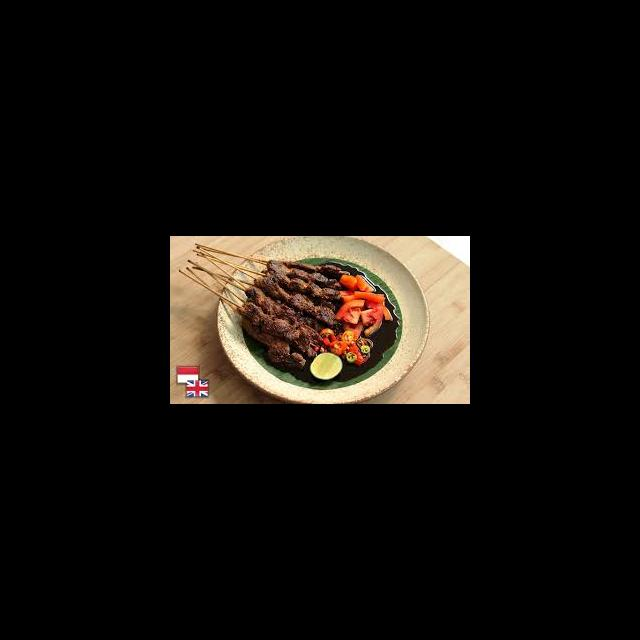food_waste: (262, 277, 370, 370)
